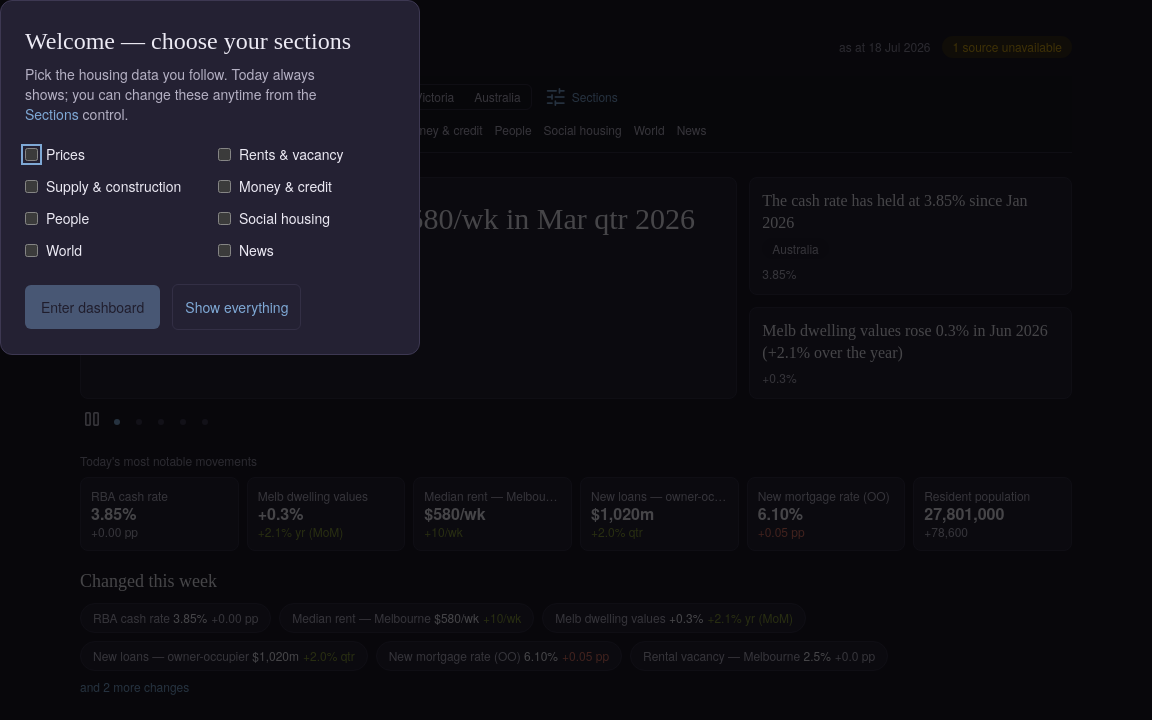
first-run welcome modal › Enter opens exactly the checked sections, persists, and closes the modal
This screenshot has width=1152, height=720.
expect the heading "Victorian Housing" is shown: met, box [80,24,301,60]
Click the checkbox labelled "Money & credit": point(224, 186) [218,180,231,192]
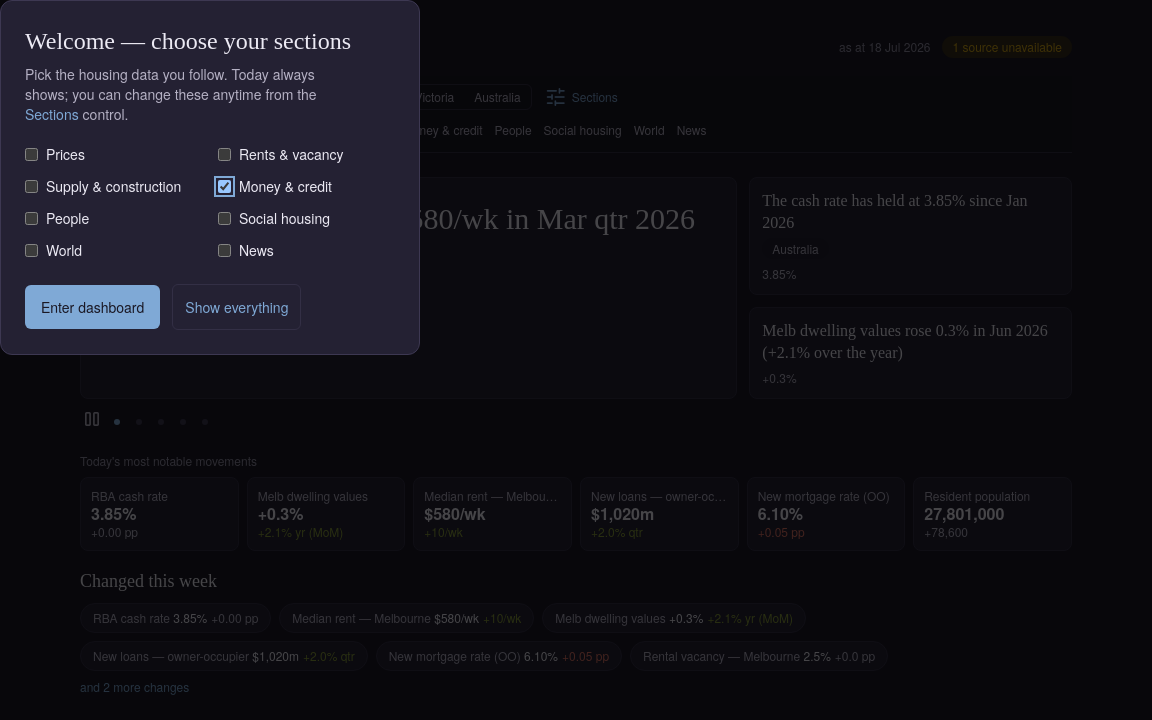
Click the button "Enter dashboard": point(93, 307) [25,285,160,329]
(page scrolled)
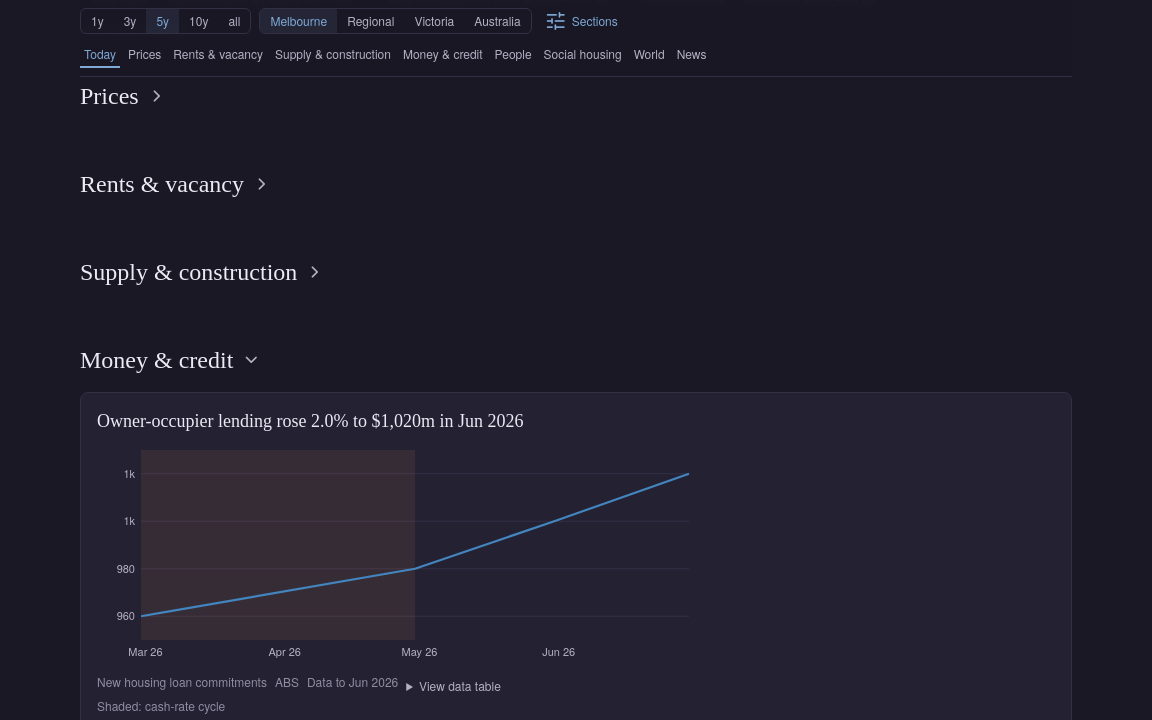
expect the 2nd button "Money & credit" is expanded: met, box [80,344,263,376]
expect the heading "choose your sections" is gone: met
